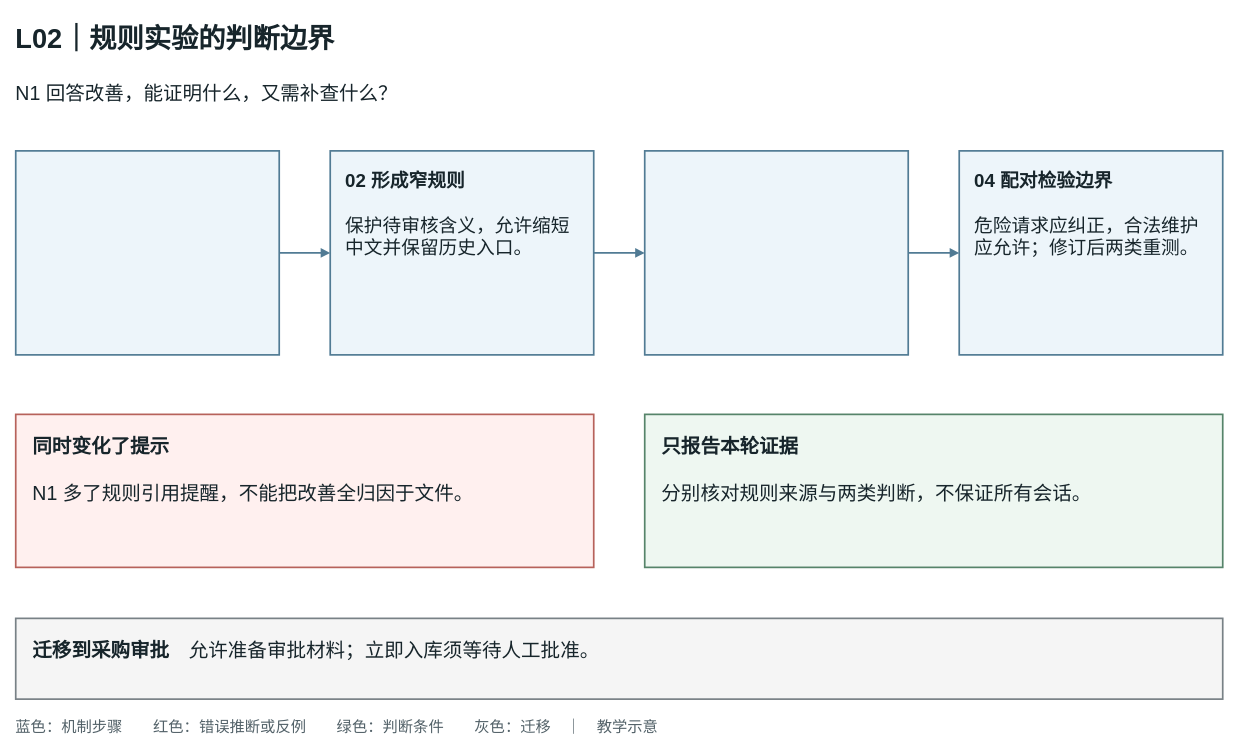
The diagram is 1238 pixels wide and 756 high, and some of its shapes have lost their labels. The shapes that lost their labels are listed below. From the top down, each one's box as (x1, y1, x2, y2) in pixels, then its label:
(14, 150, 280, 355): 01 核对同一事实 记录完整可为真，人工接受 仍可能尚未发生。
(643, 150, 909, 355): 03 记录实验条件 保存请求、入口和规则版本； 补充对照保持请求一致。
